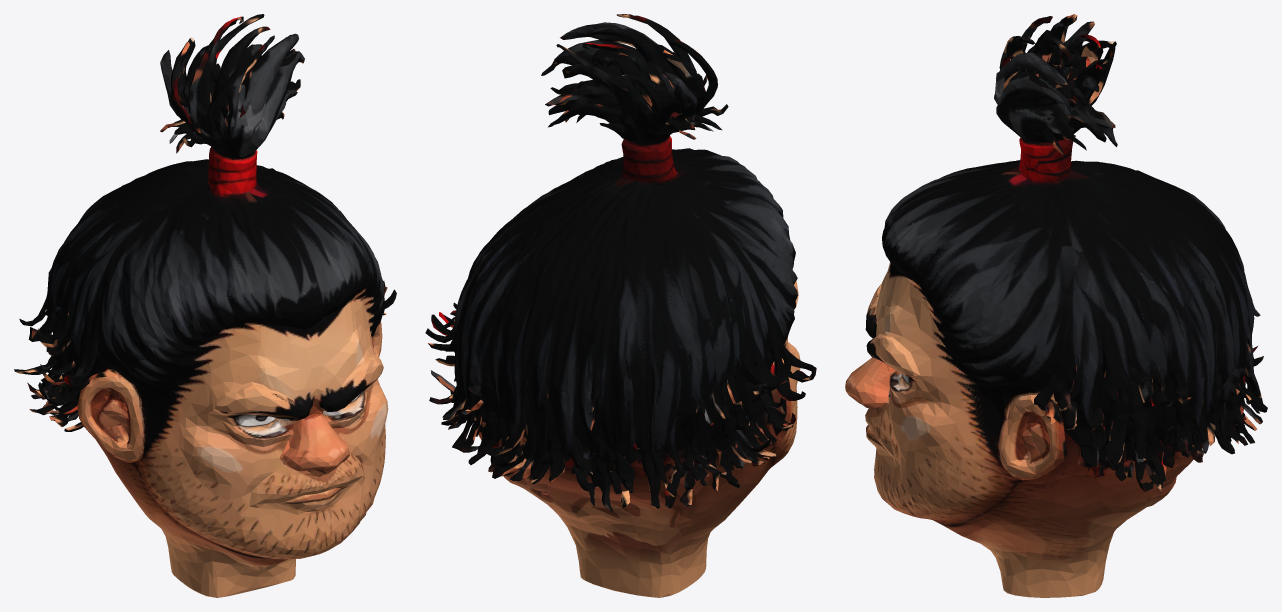
File: side_gonta_repaired_atlas.glb
3 views of the same model, side by side, from view 1: azimuth 30°, elevation 25°; view 2: azimuth 150°, elevation 25°; view 3: azimuth 270°, elevation 25° (orthographic). The views are drawn at different scales.
Visible parts, largest first — view 1: temp_mesh.ply; view 2: temp_mesh.ply; view 3: temp_mesh.ply.
Part boxes in pixels (left/top/right/bottom): temp_mesh.ply: left=14, top=14, right=396, bottom=597; temp_mesh.ply: left=425, top=14, right=816, bottom=597; temp_mesh.ply: left=845, top=14, right=1267, bottom=597.
Size of the model in its own units: 1.35 by 1.97 by 1.38.
1 material, 1 textured.
